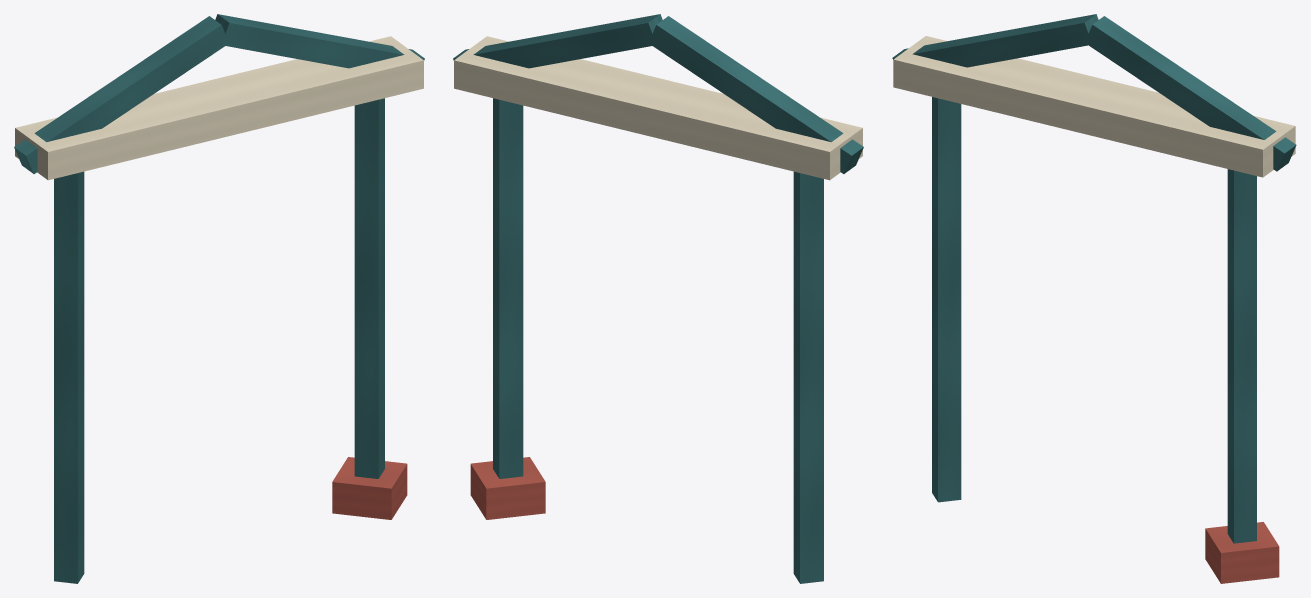
File: atlas100-s031-a09.lod2.glb
The picture shows the model from 3 angles, left to right: view 1: azimuth 30°, elevation 25°; view 2: azimuth 150°, elevation 25°; view 3: azimuth 330°, elevation 25°; orthographic projection.
Visible parts, largest first — view 1: atlas100-s031-a09:part-004, atlas100-s031-a09:part-000, atlas100-s031-a09:part-002, atlas100-s031-a09:part-005, atlas100-s031-a09:part-006, atlas100-s031-a09:part-003; view 2: atlas100-s031-a09:part-004, atlas100-s031-a09:part-000, atlas100-s031-a09:part-002, atlas100-s031-a09:part-005, atlas100-s031-a09:part-006, atlas100-s031-a09:part-003; view 3: atlas100-s031-a09:part-004, atlas100-s031-a09:part-000, atlas100-s031-a09:part-002, atlas100-s031-a09:part-006, atlas100-s031-a09:part-005, atlas100-s031-a09:part-003.
Boxes of the visible parts, x1,y1,x2,y2 form: atlas100-s031-a09:part-004: (15,36,423,180); atlas100-s031-a09:part-000: (54,171,84,583); atlas100-s031-a09:part-002: (354,98,384,478); atlas100-s031-a09:part-005: (14,16,229,173); atlas100-s031-a09:part-006: (215,14,424,68); atlas100-s031-a09:part-003: (332,457,407,519); atlas100-s031-a09:part-004: (454,36,862,180); atlas100-s031-a09:part-000: (793,171,823,583); atlas100-s031-a09:part-002: (493,98,523,478); atlas100-s031-a09:part-005: (649,16,863,173); atlas100-s031-a09:part-006: (453,14,662,68); atlas100-s031-a09:part-003: (470,457,545,519); atlas100-s031-a09:part-004: (893,36,1295,177); atlas100-s031-a09:part-000: (932,97,961,502); atlas100-s031-a09:part-002: (1227,169,1256,543); atlas100-s031-a09:part-006: (1085,16,1296,171); atlas100-s031-a09:part-005: (892,14,1098,67); atlas100-s031-a09:part-003: (1205,522,1279,583).
Size of the model in its own units: 2.65 by 3.31 by 0.5.
Materials: 3 (3 with a texture image).
